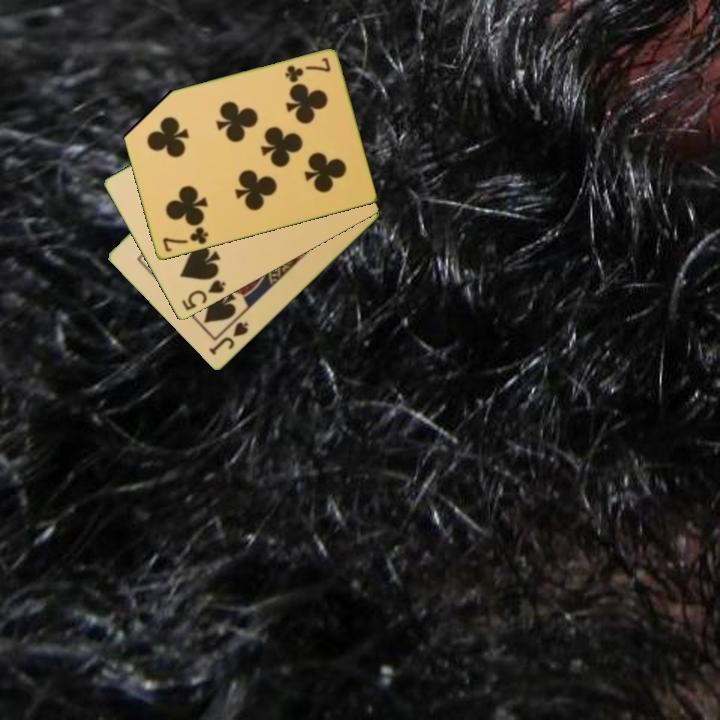5s: (178, 276, 229, 314)
7c: (159, 223, 211, 255), (281, 54, 333, 85)
Js: (205, 318, 252, 359)
